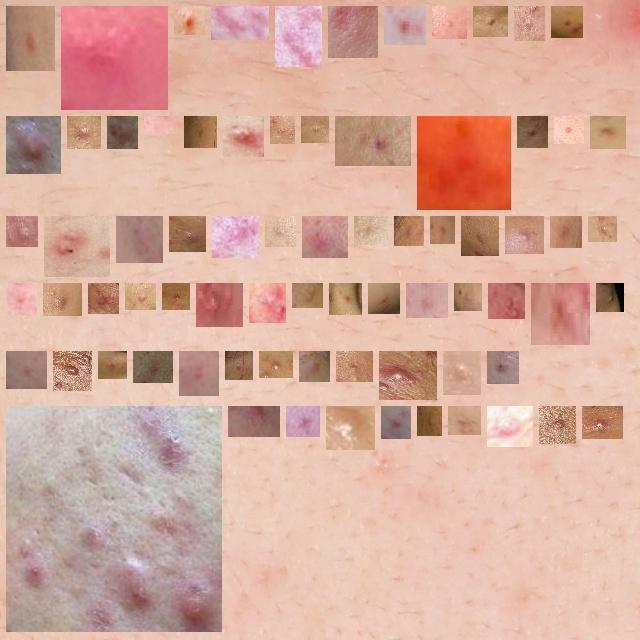papule: (14, 414, 214, 624), (69, 14, 160, 102), (425, 124, 503, 202), (52, 224, 102, 269), (343, 124, 403, 158), (539, 291, 582, 337), (14, 124, 53, 166), (14, 14, 47, 63), (283, 14, 314, 59), (387, 359, 429, 392), (336, 14, 370, 50), (124, 224, 155, 255), (334, 414, 367, 442), (204, 291, 235, 319), (220, 224, 251, 250), (236, 407, 272, 429), (310, 224, 340, 250), (219, 14, 261, 32), (495, 414, 525, 439), (187, 359, 211, 388), (231, 122, 256, 149), (451, 359, 473, 387), (392, 14, 418, 37), (61, 359, 84, 383), (14, 359, 39, 381), (469, 224, 491, 248), (513, 224, 536, 246), (257, 291, 278, 315), (414, 291, 440, 310), (547, 414, 568, 436), (590, 414, 615, 431), (177, 224, 198, 244), (496, 291, 517, 311), (51, 291, 74, 308), (141, 359, 165, 375), (598, 124, 618, 141), (440, 14, 459, 31), (344, 359, 365, 374), (75, 124, 93, 141), (481, 14, 500, 29), (522, 14, 537, 33), (192, 124, 209, 140), (337, 291, 354, 307), (495, 359, 511, 376), (294, 414, 312, 429), (559, 14, 575, 30), (558, 224, 574, 240), (115, 124, 130, 141), (525, 124, 540, 140), (14, 224, 30, 239), (14, 291, 29, 307), (376, 291, 392, 306), (389, 414, 403, 431), (362, 224, 380, 237), (273, 224, 288, 239), (96, 291, 111, 306), (307, 359, 322, 374), (456, 414, 473, 427), (267, 359, 285, 370), (402, 224, 416, 238), (182, 14, 197, 27), (152, 116, 170, 126), (562, 124, 576, 136), (133, 291, 148, 302), (604, 291, 616, 304), (106, 359, 119, 371), (233, 359, 245, 372), (462, 291, 474, 303), (300, 291, 315, 300), (309, 124, 321, 135), (170, 291, 182, 302), (596, 224, 609, 234), (425, 414, 434, 428), (278, 124, 287, 136), (438, 224, 447, 236)
